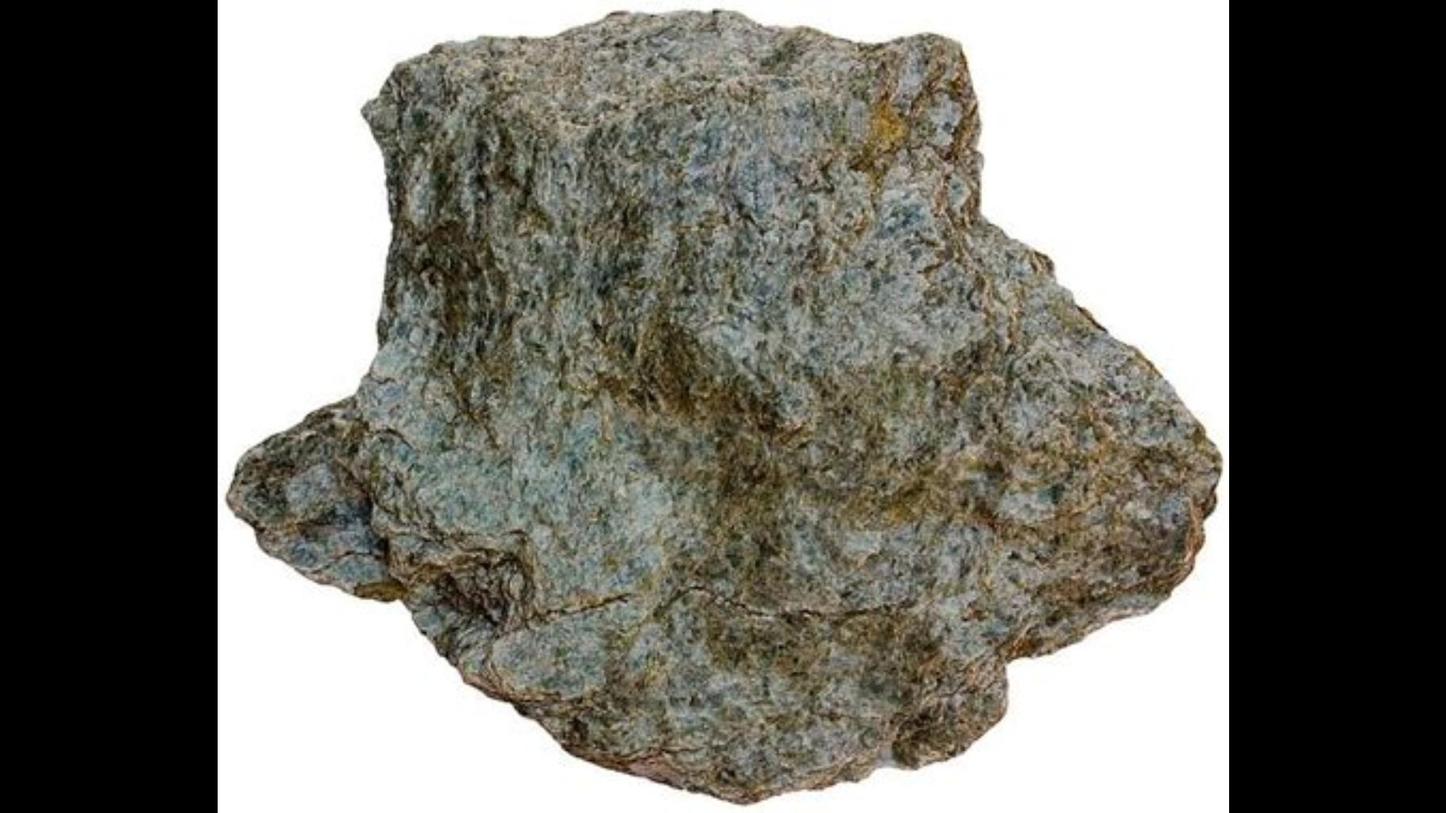rock: (228, 15, 1218, 796)
